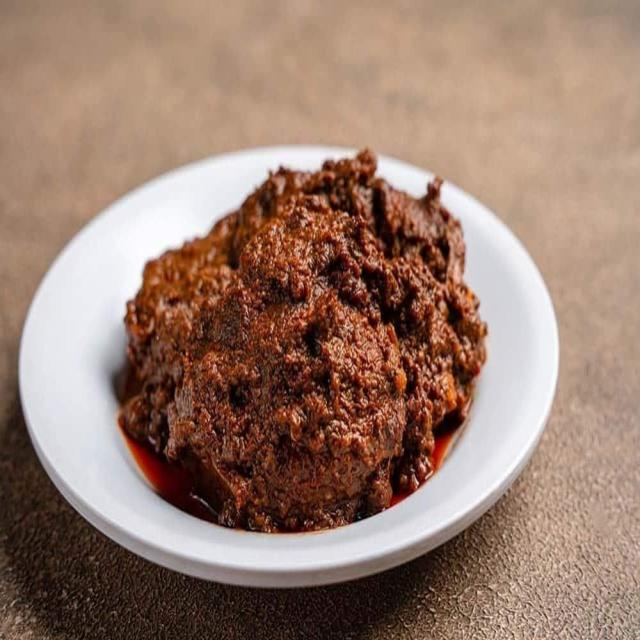Rendang: (120, 153, 482, 532)
